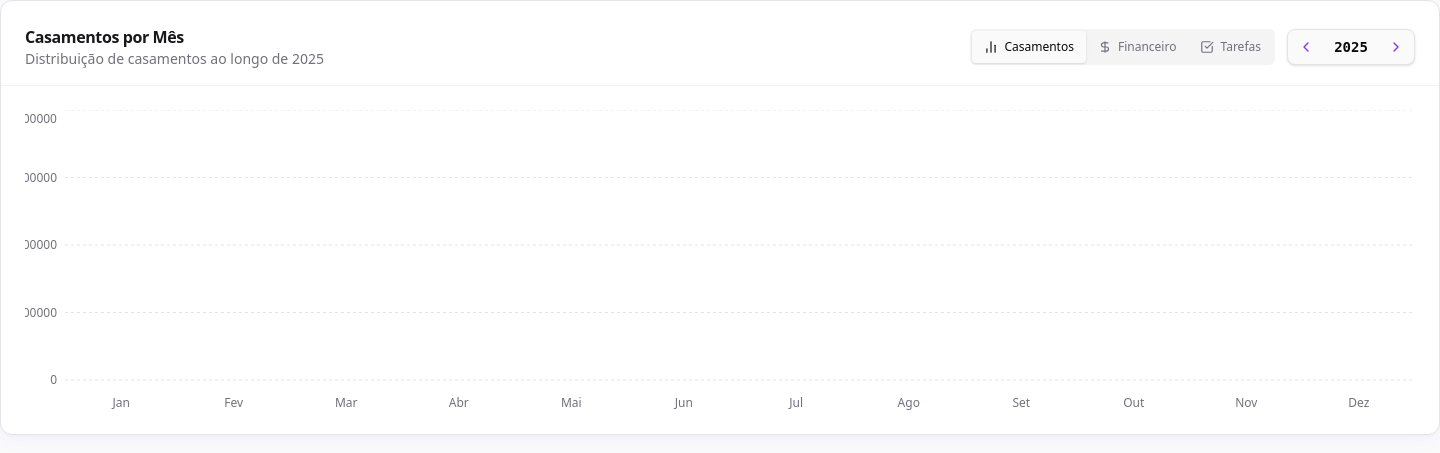
Scenario: WeddingMonthlyChart › renders cash flow bars with populated installment data
Click the tab "Financeiro". click: x=1137, y=47
box: 1086,31 -> 1188,63
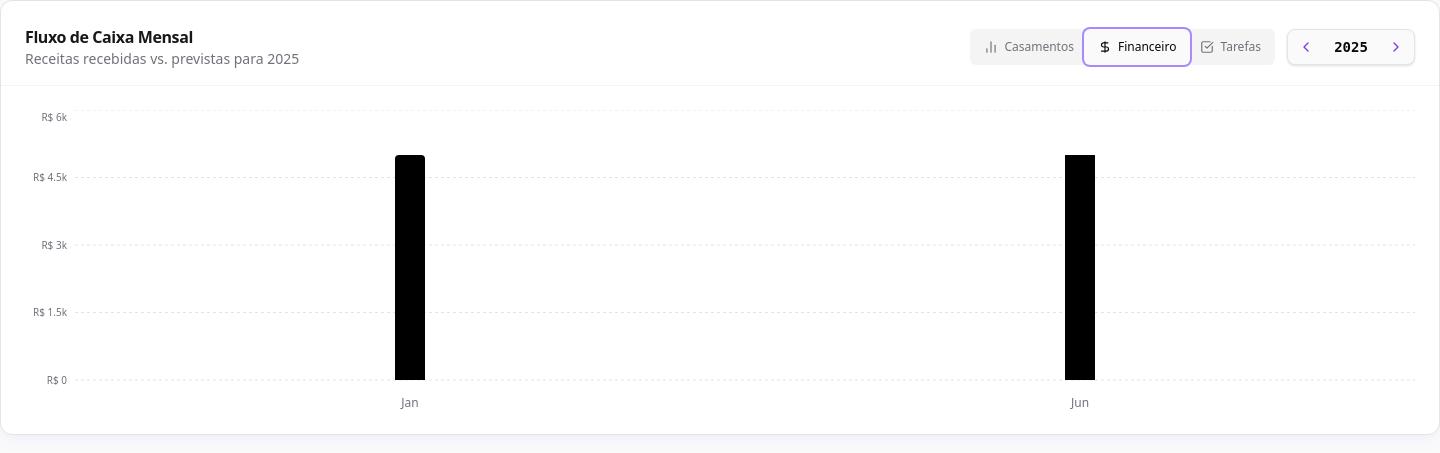
Expected: the heading "Fluxo de Caixa Mensal" is shown, 25,26 -> 193,48
